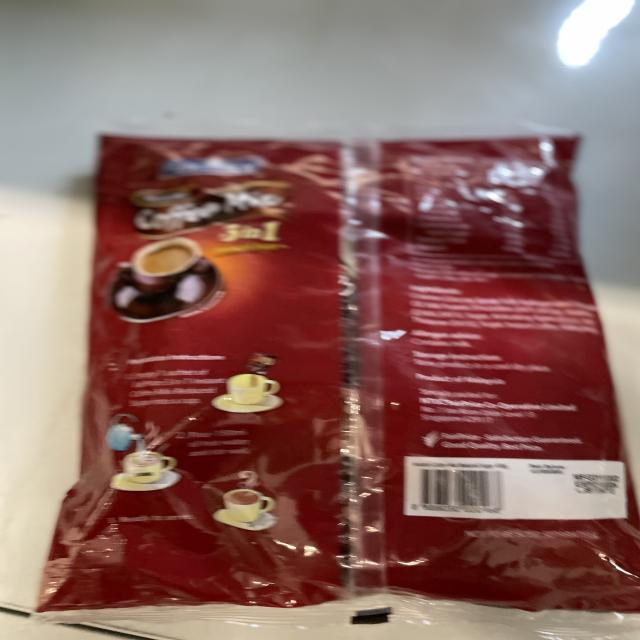object_name: (84, 134, 620, 606)
